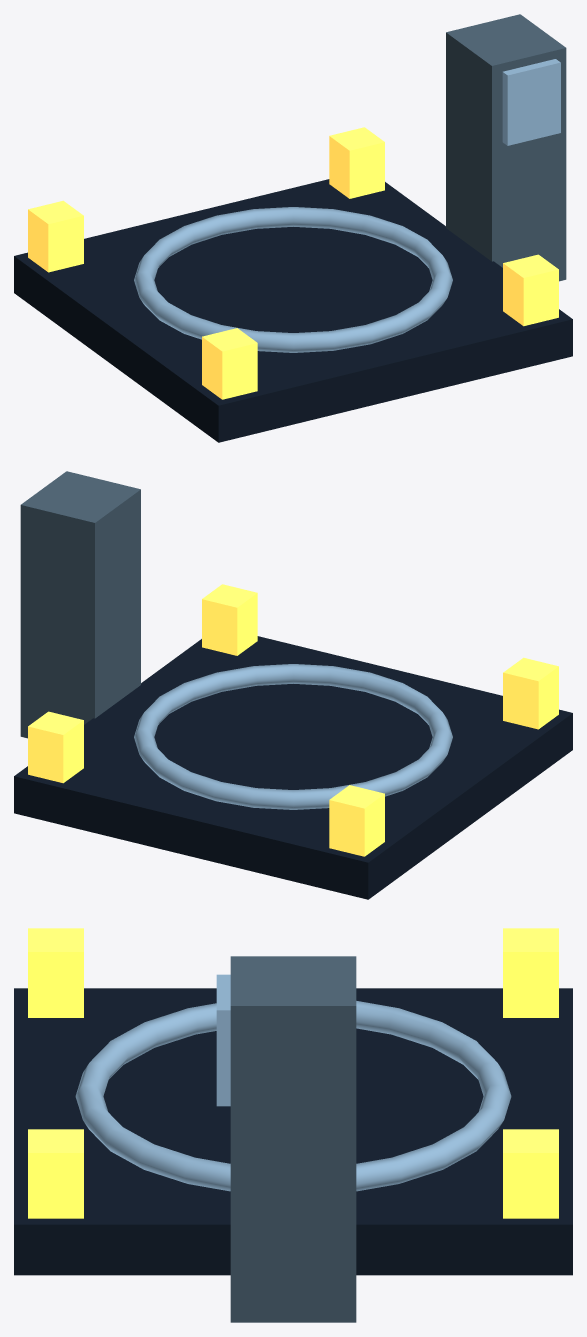
The model's file is device-receiver.glb.
3 views of the same model, one above another, from view 1: azimuth 30°, elevation 25°; view 2: azimuth 150°, elevation 25°; view 3: azimuth 270°, elevation 25° (orthographic). The views are drawn at different scales.
Visible parts, largest first — view 1: receiver-plinth, receiver-terminal, receiver-clamp (×4), state-light, terminal-face; view 2: receiver-plinth, receiver-terminal, receiver-clamp (×4), state-light; view 3: receiver-plinth, receiver-terminal, receiver-clamp (×4), state-light, terminal-face.
Boxes of the visible parts, x1,y1,x2,y2 form: receiver-plinth: [14, 179, 572, 442]; receiver-terminal: [446, 14, 566, 281]; receiver-clamp (×4): [28, 127, 558, 399]; state-light: [134, 207, 452, 352]; terminal-face: [502, 59, 560, 145]; receiver-plinth: [14, 636, 572, 899]; receiver-terminal: [20, 471, 140, 738]; receiver-clamp (×4): [28, 584, 558, 856]; state-light: [134, 664, 452, 809]; receiver-plinth: [14, 988, 572, 1275]; receiver-terminal: [230, 956, 356, 1322]; receiver-clamp (×4): [28, 928, 558, 1218]; state-light: [75, 1001, 511, 1191]; terminal-face: [216, 974, 230, 1106].
Size of the model in its own units: 2.41 by 1.26 by 2.
